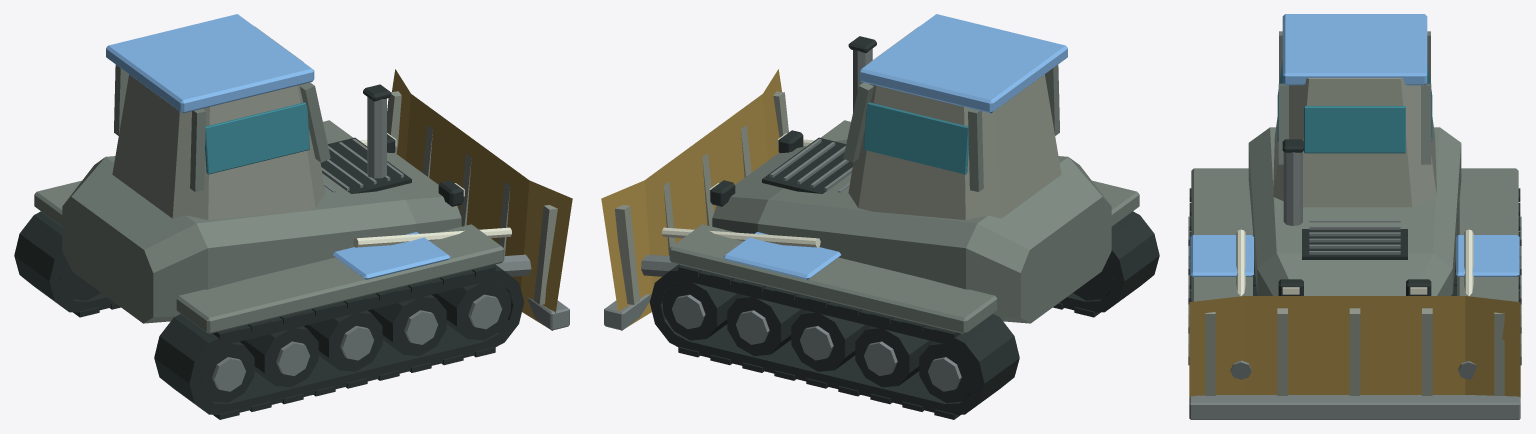
The model's file is dozer.glb.
The picture shows the model from 3 angles, left to right: view 1: azimuth 30°, elevation 25°; view 2: azimuth 150°, elevation 25°; view 3: azimuth 270°, elevation 25°; orthographic projection. The views are drawn at different scales.
Parts seen in each view (by area): view 1: coalition_dozer; view 2: coalition_dozer; view 3: coalition_dozer.
Part boxes in pixels (x1,y1,x2,y2): coalition_dozer: (14,14,572,419); coalition_dozer: (601,14,1159,419); coalition_dozer: (1188,14,1521,419).
Bounding box in the file's own units: 1.94 × 1.35 × 1.57.
